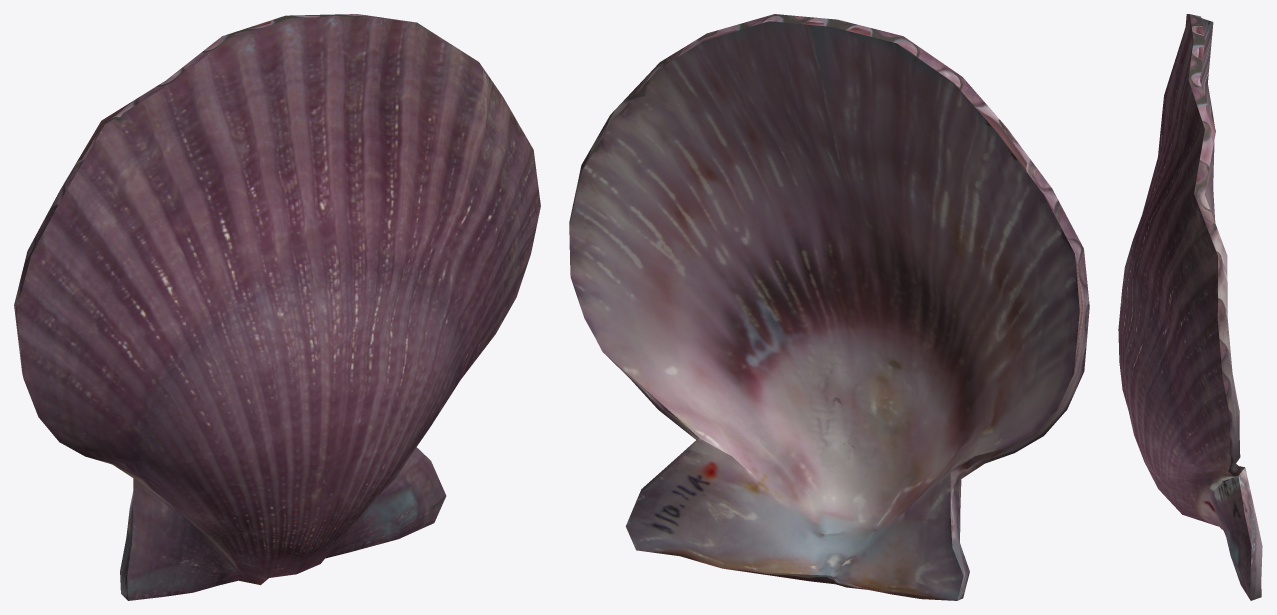
Rendered from purple_seashell.glb.
The picture shows the model from 3 angles, left to right: view 1: azimuth 30°, elevation 25°; view 2: azimuth 150°, elevation 25°; view 3: azimuth 270°, elevation 25°; orthographic projection. The views are drawn at different scales.
Visible parts, largest first — view 1: Purple Scallop; view 2: Purple Scallop; view 3: Purple Scallop.
Boxes of the visible parts, box(x1,y1,x2,y2) form: Purple Scallop: box(14, 14, 540, 600); Purple Scallop: box(569, 14, 1089, 600); Purple Scallop: box(1118, 14, 1262, 600).
Bounding box in the file's own units: 26.97 × 27.76 × 7.36.
1 material, 1 textured.
